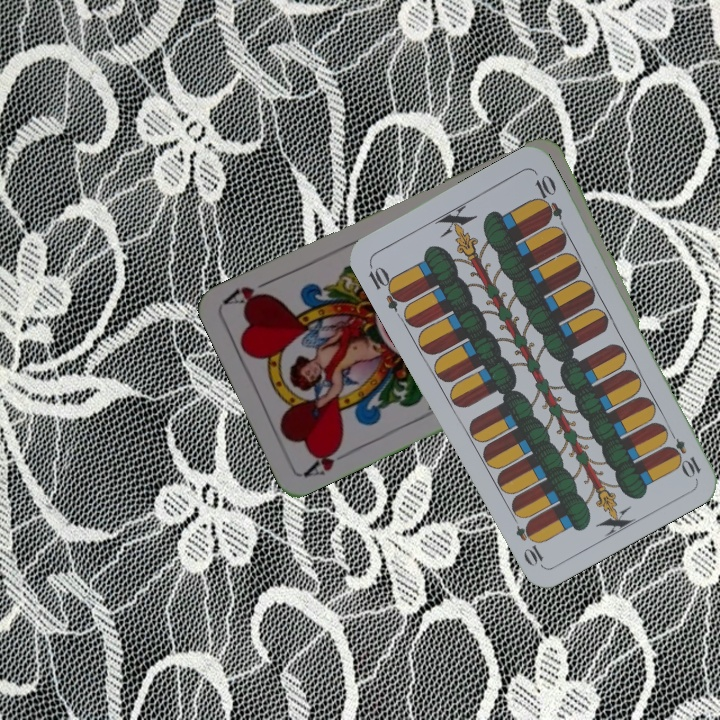E10: (364, 259, 408, 314), (663, 425, 704, 480)
HA: (300, 439, 356, 480)
